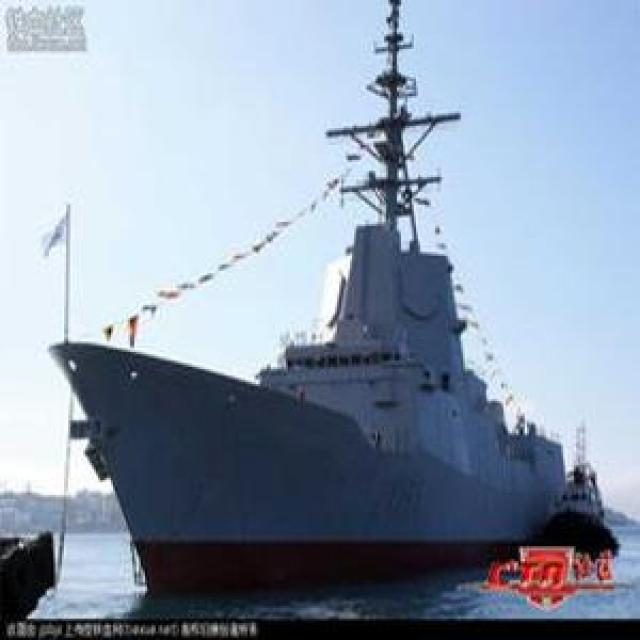navalvessels: (49, 59, 572, 590), (552, 448, 636, 567)
